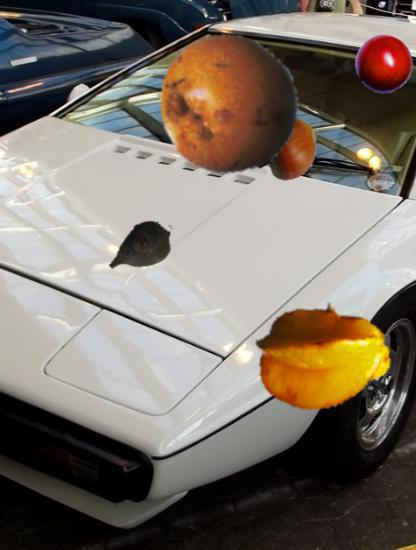Beetroot: (104, 210, 181, 287)
Carambula: (253, 287, 393, 427)
Granadilla: (159, 33, 302, 176)
Nut: (258, 113, 324, 179)
Tamarillo: (354, 34, 414, 94)
